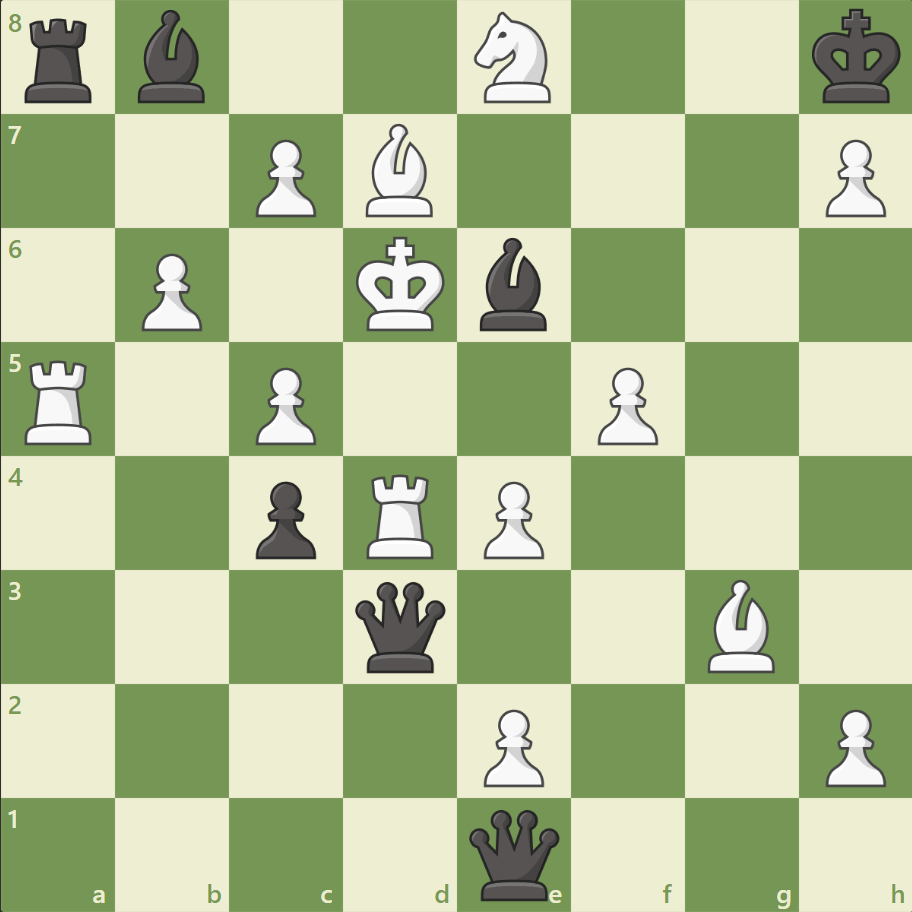B: (358, 120, 442, 222), (698, 574, 782, 676)
K: (351, 231, 451, 339)
N: (465, 7, 562, 110)
P: (247, 132, 322, 223), (133, 246, 208, 337), (247, 359, 322, 450), (474, 473, 549, 564), (474, 700, 549, 791), (815, 132, 889, 223), (588, 359, 662, 450), (815, 700, 889, 791)
R: (19, 352, 102, 449), (360, 466, 442, 563)
b: (131, 6, 215, 109), (471, 233, 555, 336)
k: (806, 4, 906, 112)
p: (247, 473, 322, 564)
q: (351, 576, 450, 676), (464, 804, 563, 903)
r: (19, 12, 102, 109)
